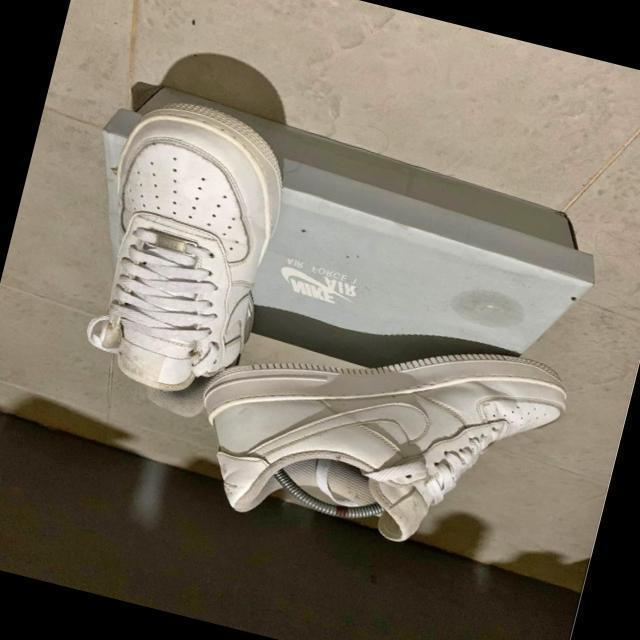nike fake air force: (176, 282, 576, 584), (63, 83, 298, 427)
